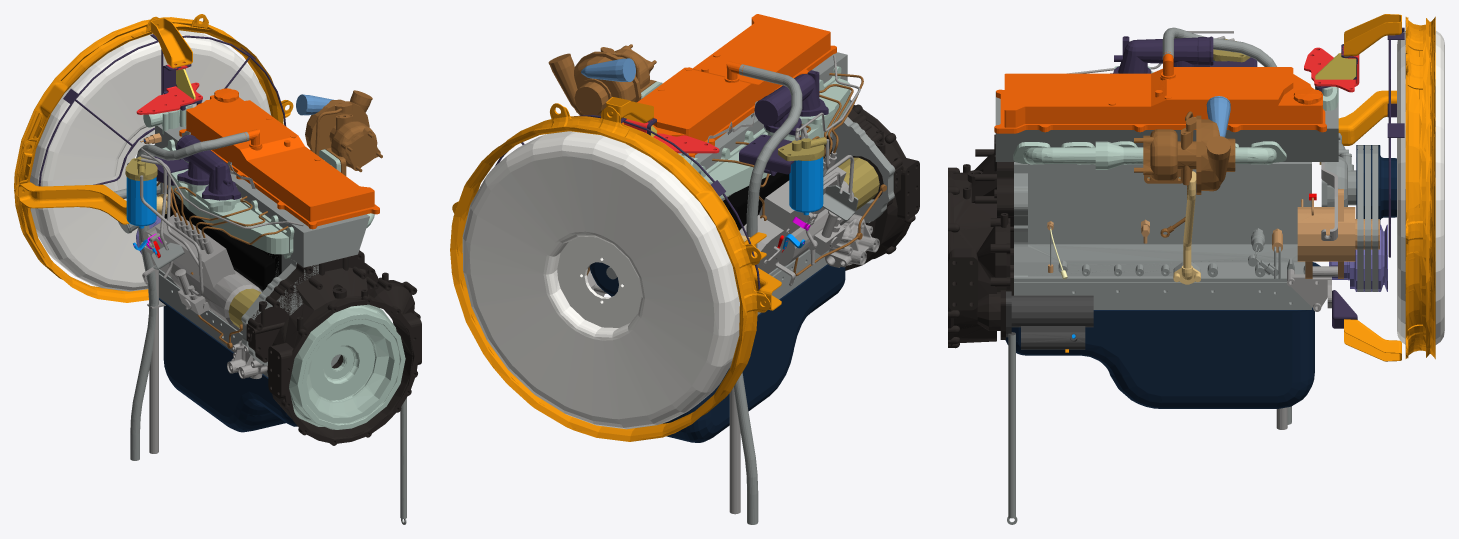
The model's file is engine.glb.
3 renders of one model, left to right at view 1: azimuth 30°, elevation 25°; view 2: azimuth 150°, elevation 25°; view 3: azimuth 270°, elevation 25°, orthographic. The views are drawn at different scales.
Bounding box in the file's own units: 0.9951 × 1.37 × 1.33.
